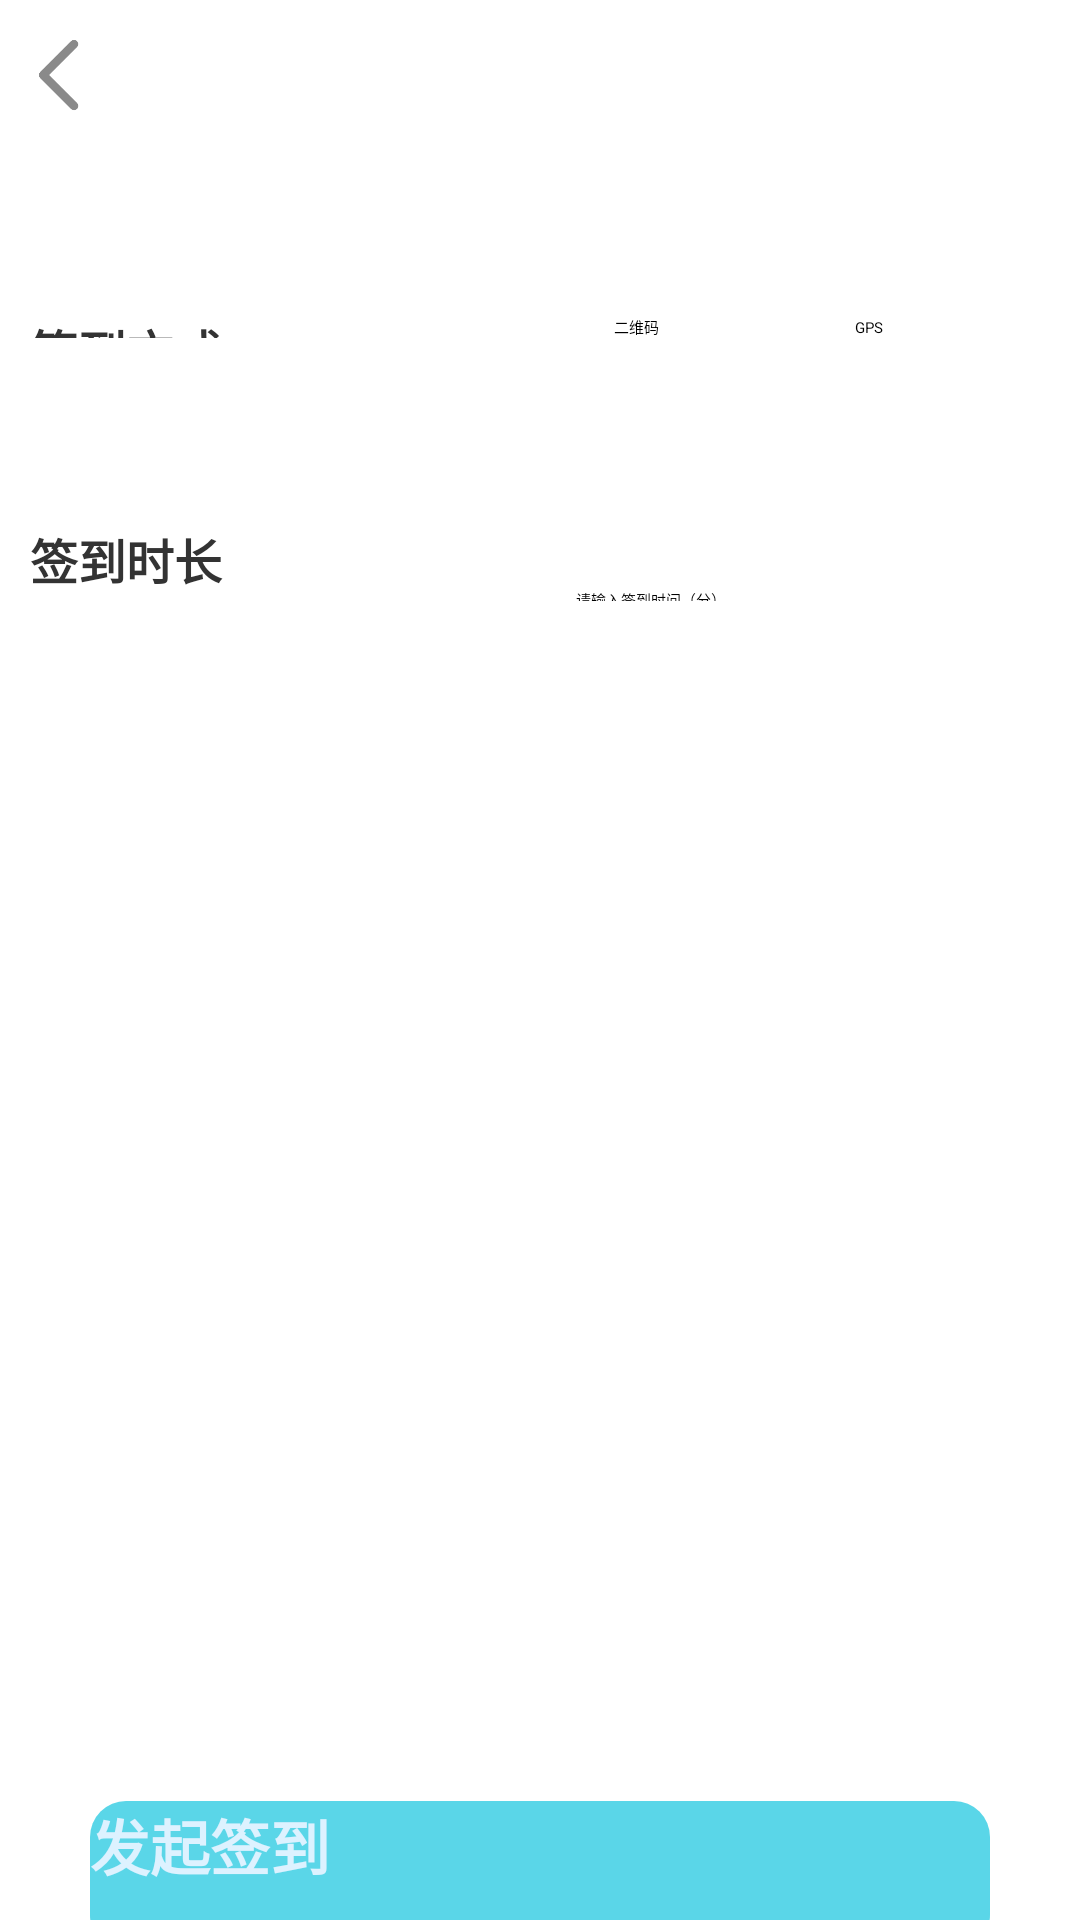

Named icons in this screenshot (1080px×1920px) and their centers, (x,y):
back: (58,75)
